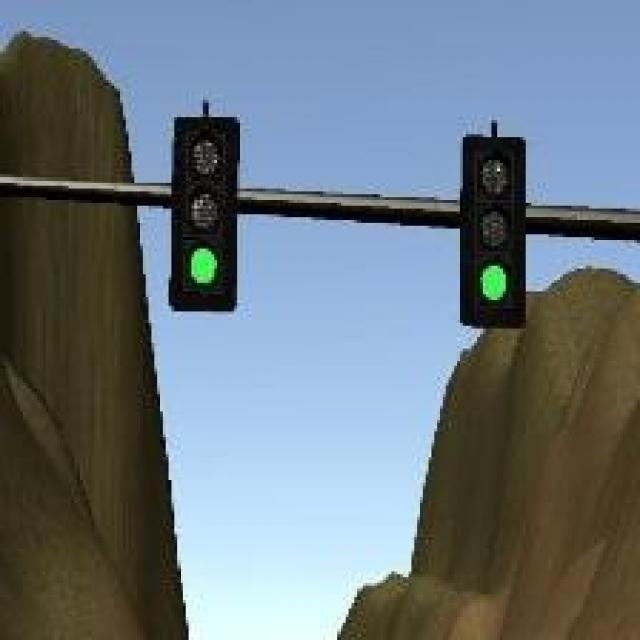green_light: (172, 115, 238, 315), (463, 132, 526, 329)
